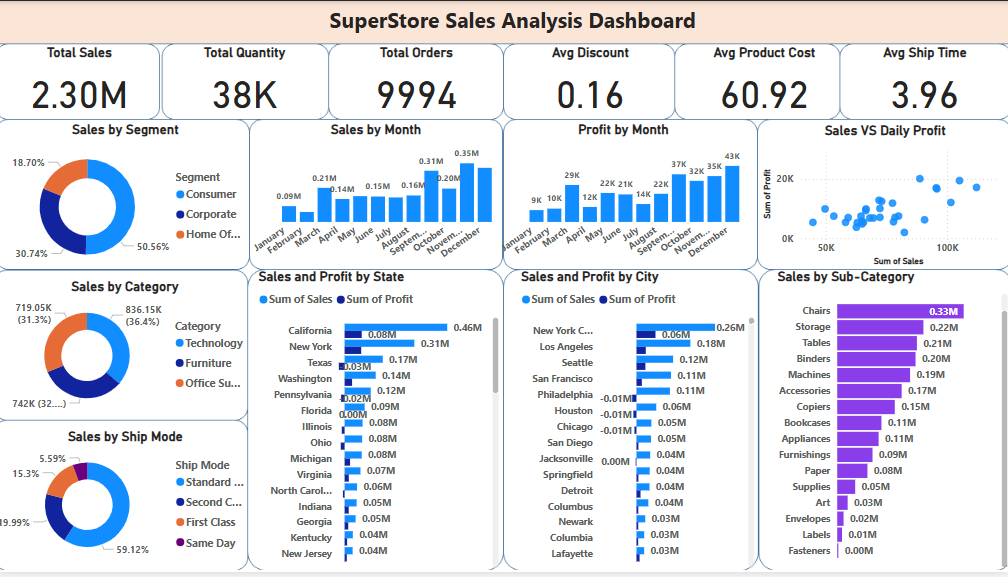

This screenshot's page, from the dashboard's own definition file:
{"tool":"powerbi","page":{"name":"SuoerStore Dashboard","canvas":[1280,720],"ordinal":0},"visuals":[{"type":"textbox","box":[231,0,803.5,55.3],"z":0},{"type":"donutChart","title":"Sales by Segment","fields":{"Y":["Sum(Orders2.Sales)"],"Category":["Orders2.Segment"]},"box":[0,151.3,328.6,196.8],"z":1000},{"type":"donutChart","title":"Sales by Category","fields":{"Y":["Sum(Orders2.Sales)"],"Category":["Orders2.Category"]},"box":[0,348.9,327.7,174.5],"z":2000},{"type":"donutChart","title":" Sales by Ship Mode","fields":{"Category":["Orders2.Ship Mode"],"Y":["Sum(Orders2.Sales)"]},"box":[0,538.4,328.6,172.4],"z":3000},{"type":"barChart","title":"Sales by Sub-Category","fields":{"Y":["Sum(Orders2.Sales)"],"Category":["Orders2.Sub-Category"]},"box":[980.9,336.2,300,383],"z":4000},{"type":"scatterChart","title":" Sales VS Daily Profit","fields":{"X":["Sum(Orders2.Sales)"],"Y":["Sum(Orders2.Profit)"],"Category":["Orders2.Order Date.Variation.Date Hierarchy.Day"]},"box":[961.7,153.2,319.1,185.1],"z":5000},{"type":"clusteredBarChart","title":"Sales and Profit by City","fields":{"Y":["Sum(Orders2.Sales)","Sum(Orders2.Profit)"],"Category":["Orders2.City"]},"box":[657.4,336.2,304.3,383],"z":6000},{"type":"clusteredBarChart","title":"Sales and Profit by State","fields":{"Y":["Sum(Orders2.Sales)","Sum(Orders2.Profit)"],"Category":["Orders2.State"]},"box":[327.7,336.2,312.8,383],"z":7000},{"type":"columnChart","title":"Sales by Month","fields":{"Y":["Sum(Orders2.Sales)"],"Category":["Orders2.Order Date.Variation.Date Hierarchy.Month"]},"box":[319.1,151.1,321.3,185.1],"z":8000},{"type":"columnChart","title":"Profit by Month","fields":{"Y":["Sum(Orders2.Profit)"],"Category":["Orders2.Order Date.Variation.Date Hierarchy.Month"]},"box":[631.9,151.1,321.3,185.1],"z":9000},{"type":"card","title":"Total Sales","fields":{"Values":["Sum(Orders2.Sales)"]},"box":[0,55.3,212.8,95.7],"z":10000},{"type":"card","title":"Total Quantity","fields":{"Values":["Sum(Orders2.Quantity)"]},"box":[212.8,55.3,202.1,95.7],"z":11000},{"type":"card","title":"Total Orders","fields":{"Values":["CountNonNull(Orders2.Row ID)"]},"box":[421.3,55.3,219.1,95.7],"z":12000},{"type":"card","title":"Avg Product Cost","fields":{"Values":["Orders2.Meas_AvgProductCost"]},"box":[859.6,55.3,219.1,95.7],"z":13000},{"type":"card","title":"Avg Ship Time","fields":{"Values":["Orders2.AvgShipTime_mes"]},"box":[1061.7,55.3,219.1,95.7],"z":14000},{"type":"card","title":"Avg Discount","fields":{"Values":["Avg(Orders2.Discount)"]},"box":[640.4,55.3,219.1,95.7],"z":15000}]}

Visuals, with their boxes in screenshot pixels (x1, y1, x2, y2), scaled from the page's 1280x720 canvas onto the 1008x577 screenshot:
textbox: locate(182, 0, 815, 44)
"Sales by Segment" donutChart: locate(0, 121, 259, 279)
"Sales by Category" donutChart: locate(0, 280, 258, 419)
" Sales by Ship Mode" donutChart: locate(0, 431, 259, 570)
"Sales by Sub-Category" barChart: locate(772, 269, 1007, 576)
" Sales VS Daily Profit" scatterChart: locate(757, 123, 1007, 271)
"Sales and Profit by City" clusteredBarChart: locate(518, 269, 757, 576)
"Sales and Profit by State" clusteredBarChart: locate(258, 269, 504, 576)
"Sales by Month" columnChart: locate(251, 121, 504, 269)
"Profit by Month" columnChart: locate(498, 121, 751, 269)
"Total Sales" card: locate(0, 44, 168, 121)
"Total Quantity" card: locate(168, 44, 327, 121)
"Total Orders" card: locate(332, 44, 504, 121)
"Avg Product Cost" card: locate(677, 44, 849, 121)
"Avg Ship Time" card: locate(836, 44, 1007, 121)
"Avg Discount" card: locate(504, 44, 677, 121)
